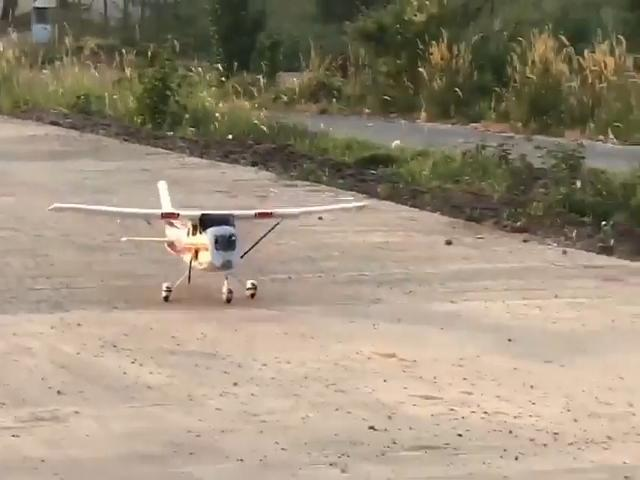plane: (46, 182, 364, 302)
